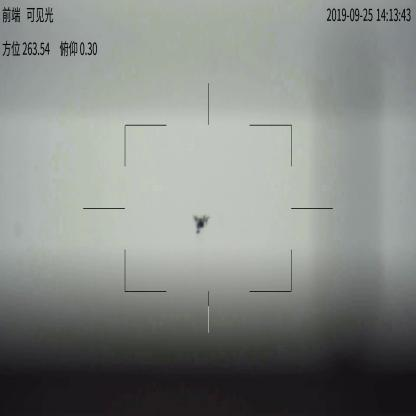uav: (192, 210, 210, 234)
